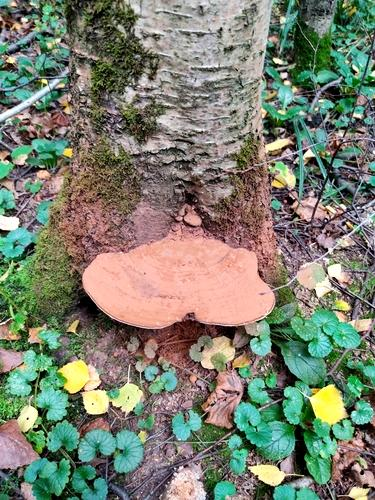Ganoderma - Fruit Body: (84, 232, 276, 328)
